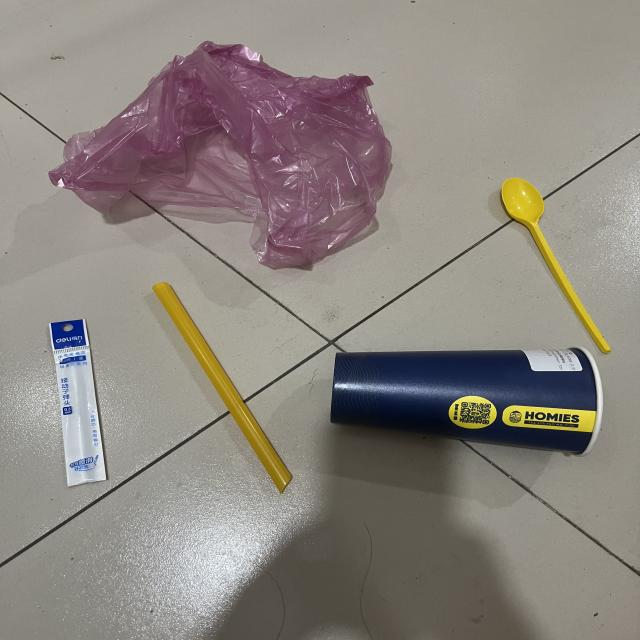bag: (47, 40, 393, 270)
drinking straw: (152, 282, 292, 494)
packet: (49, 318, 106, 488)
plastic glass: (330, 346, 604, 457)
plastic utensil: (501, 178, 612, 354)
